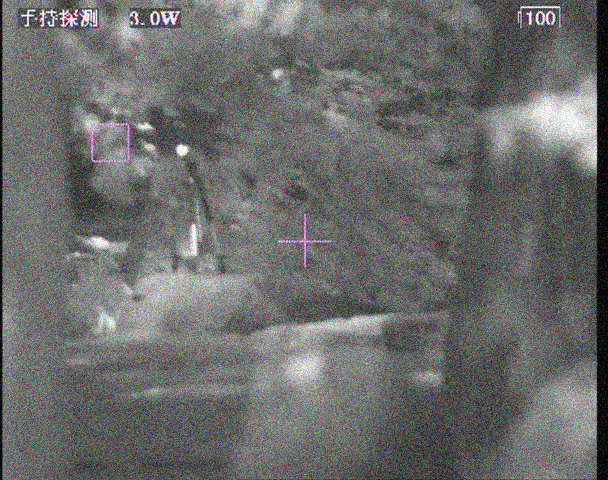my: (175, 143, 189, 157)
